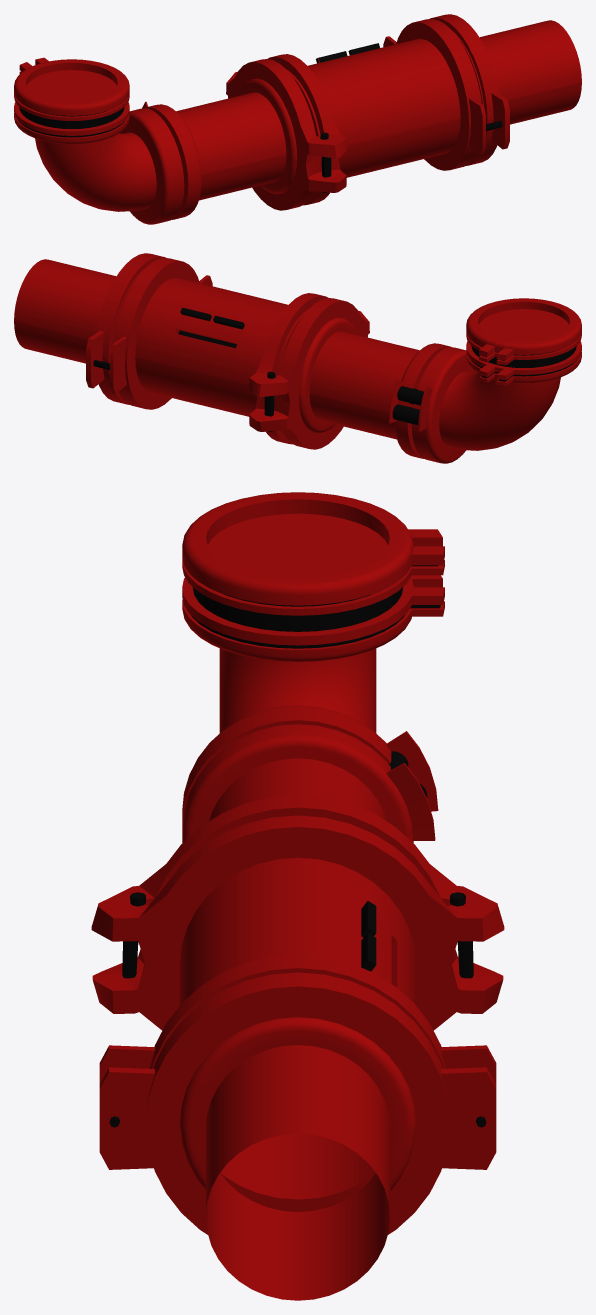
The model's file is Curved Pipe.fbx.
The picture shows the model from 3 angles, top to bottom: view 1: azimuth 30°, elevation 25°; view 2: azimuth 150°, elevation 25°; view 3: azimuth 270°, elevation 25°; orthographic projection. The views are drawn at different scales.
Visible parts, largest first — view 1: 1st_Pipe, Tube_2; view 2: 1st_Pipe, Tube_2; view 3: 1st_Pipe, Tube_2.
Boxes of the visible parts, x1,y1,x2,y2 form: 1st_Pipe: [176, 14, 581, 210]; Tube_2: [14, 57, 201, 224]; 1st_Pipe: [14, 253, 419, 449]; Tube_2: [388, 298, 581, 463]; 1st_Pipe: [91, 758, 504, 1300]; Tube_2: [182, 492, 444, 842].
Size of the model in its own units: 699 by 212 by 232.
